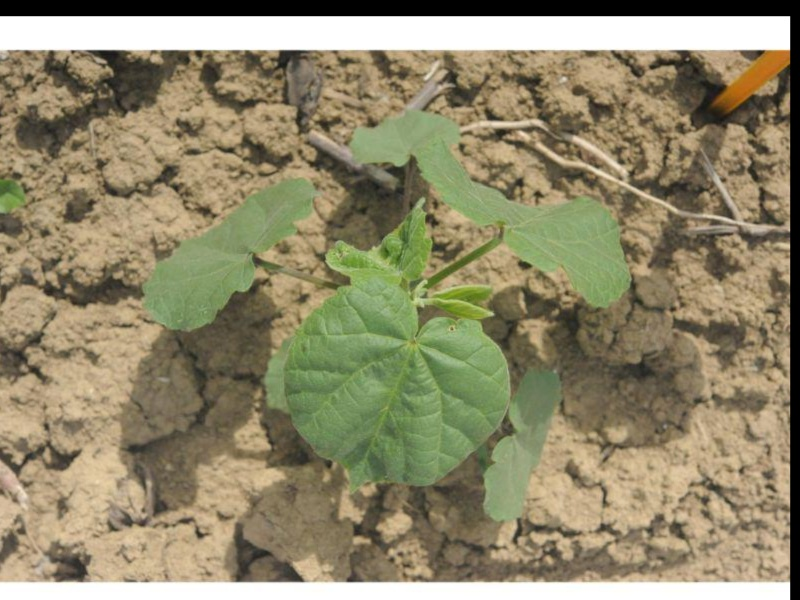velvet: (146, 107, 631, 522)
